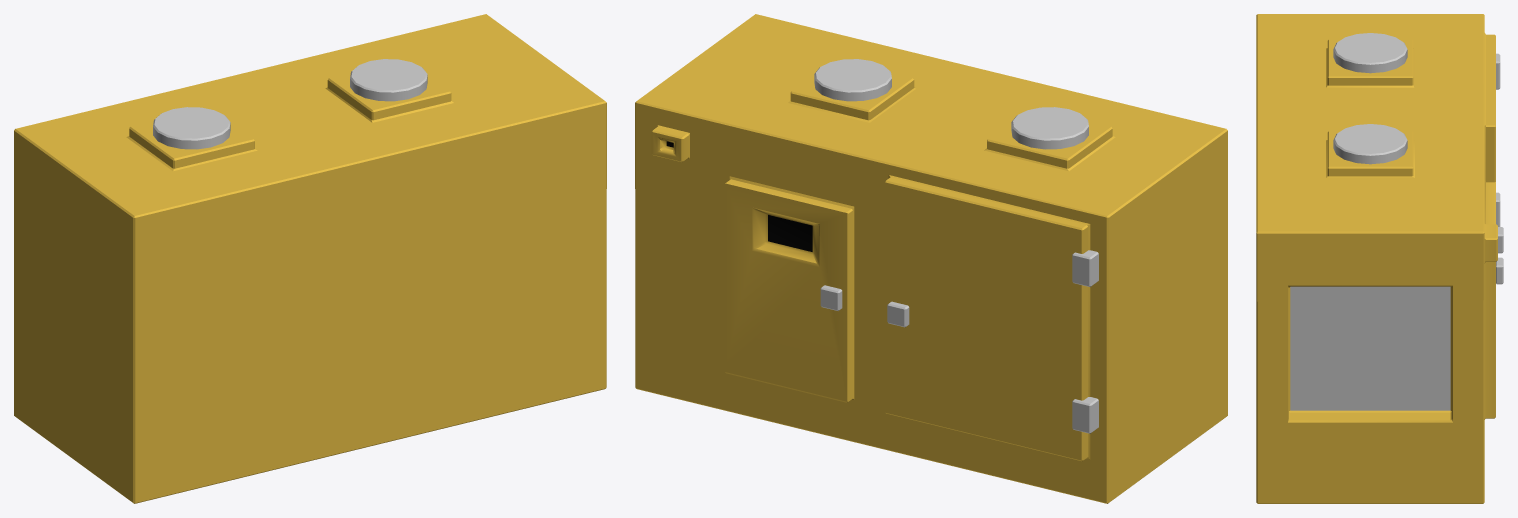
Rendered from Generator.fbx.
3 renders of one model, left to right at view 1: azimuth 30°, elevation 25°; view 2: azimuth 150°, elevation 25°; view 3: azimuth 270°, elevation 25°, orthographic. The views are drawn at different scales.
Parts seen in each view (by area): view 1: Generator; view 2: Generator; view 3: Generator.
Boxes of the visible parts, x1,y1,x2,y2 form: Generator: (14,14,606,503); Generator: (635,14,1227,503); Generator: (1256,14,1503,503).
Bounding box in the file's own units: 360 × 224 × 172.
